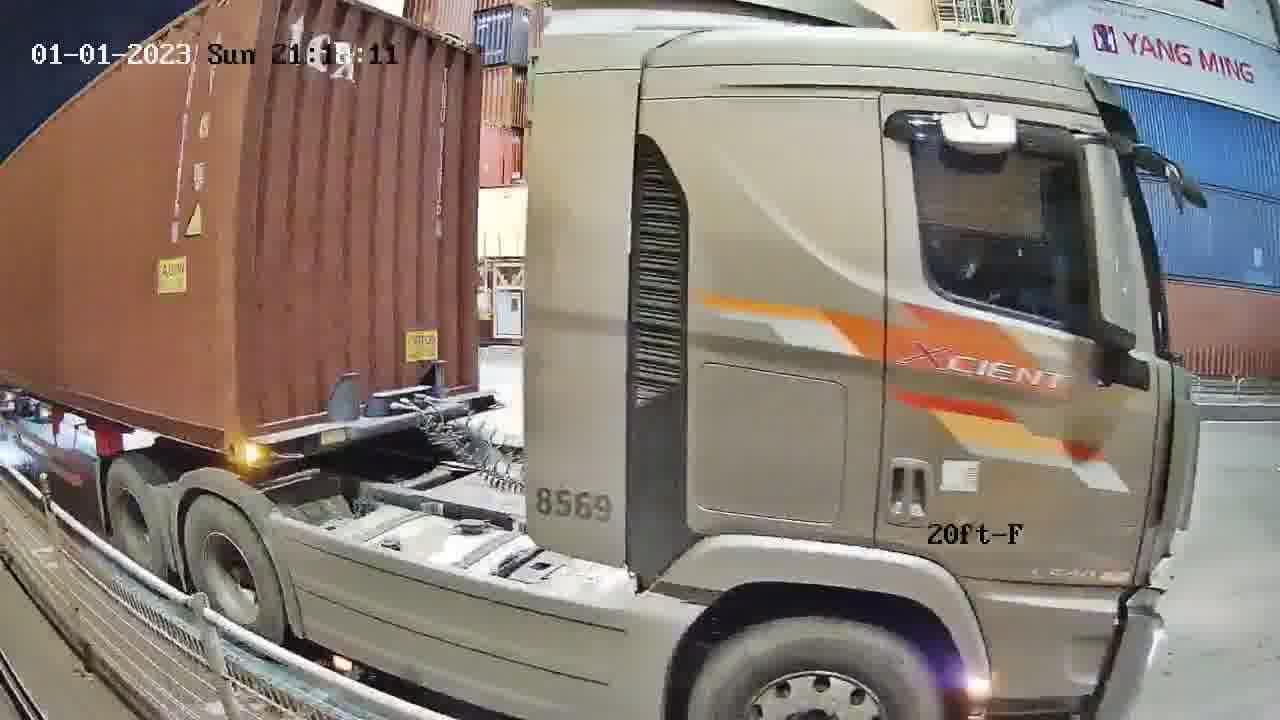Chassis: (245, 391, 505, 467)
Hole_R: (198, 401, 242, 460)
Tire: (183, 499, 284, 641), (105, 461, 163, 573)
